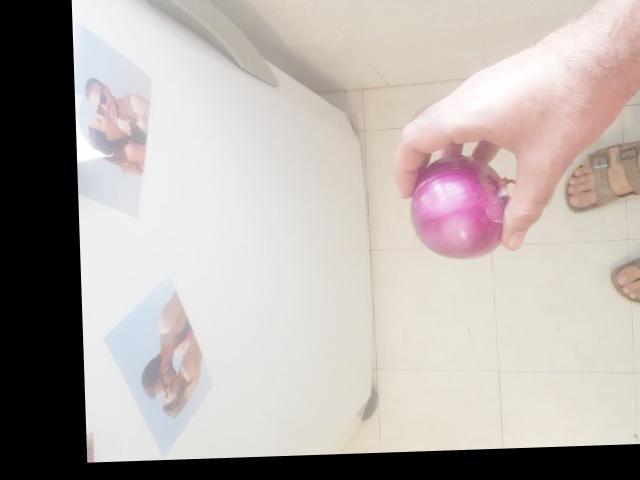onion: (398, 157, 507, 261)
